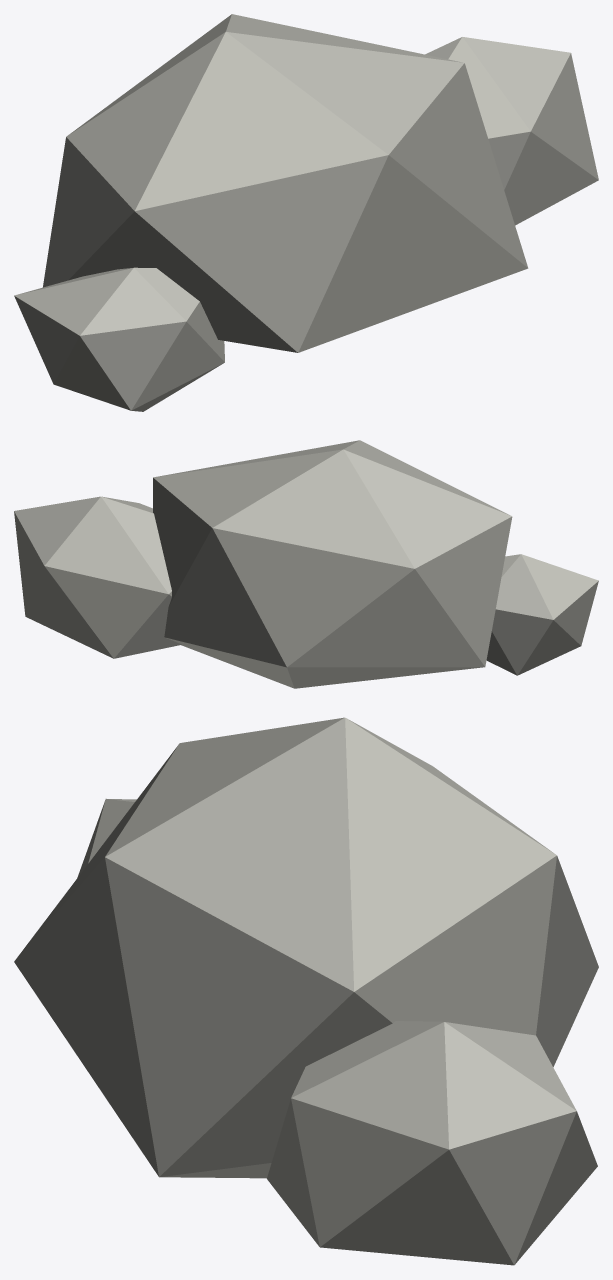
Rendered from RockCluster.fbx.
3 renders of one model, top to bottom at view 1: azimuth 30°, elevation 25°; view 2: azimuth 150°, elevation 25°; view 3: azimuth 270°, elevation 25°, orthographic. The views are drawn at different scales.
Visible parts, largest first — view 1: RockCluster; view 2: RockCluster; view 3: RockCluster.
Part boxes in pixels (x1,y1,x2,y2): RockCluster: [14, 14, 598, 411]; RockCluster: [14, 440, 598, 688]; RockCluster: [14, 717, 598, 1265].
Bounding box in the file's own units: 5.52 × 2.73 × 3.43.
Materials: 1 (1 with a texture image).
